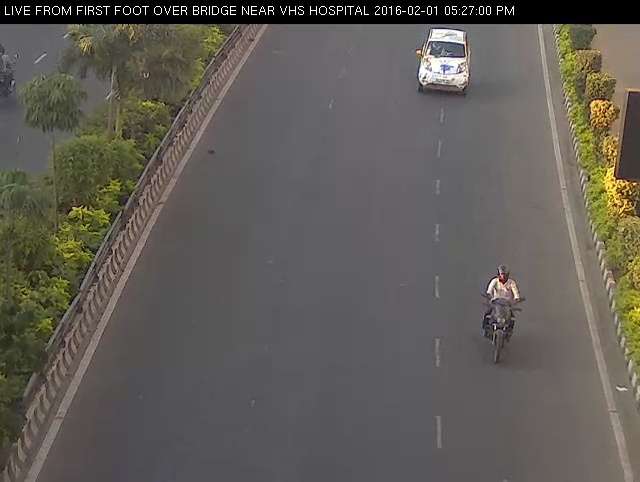Car: (409, 16, 475, 109)
Person: (474, 252, 528, 365)
